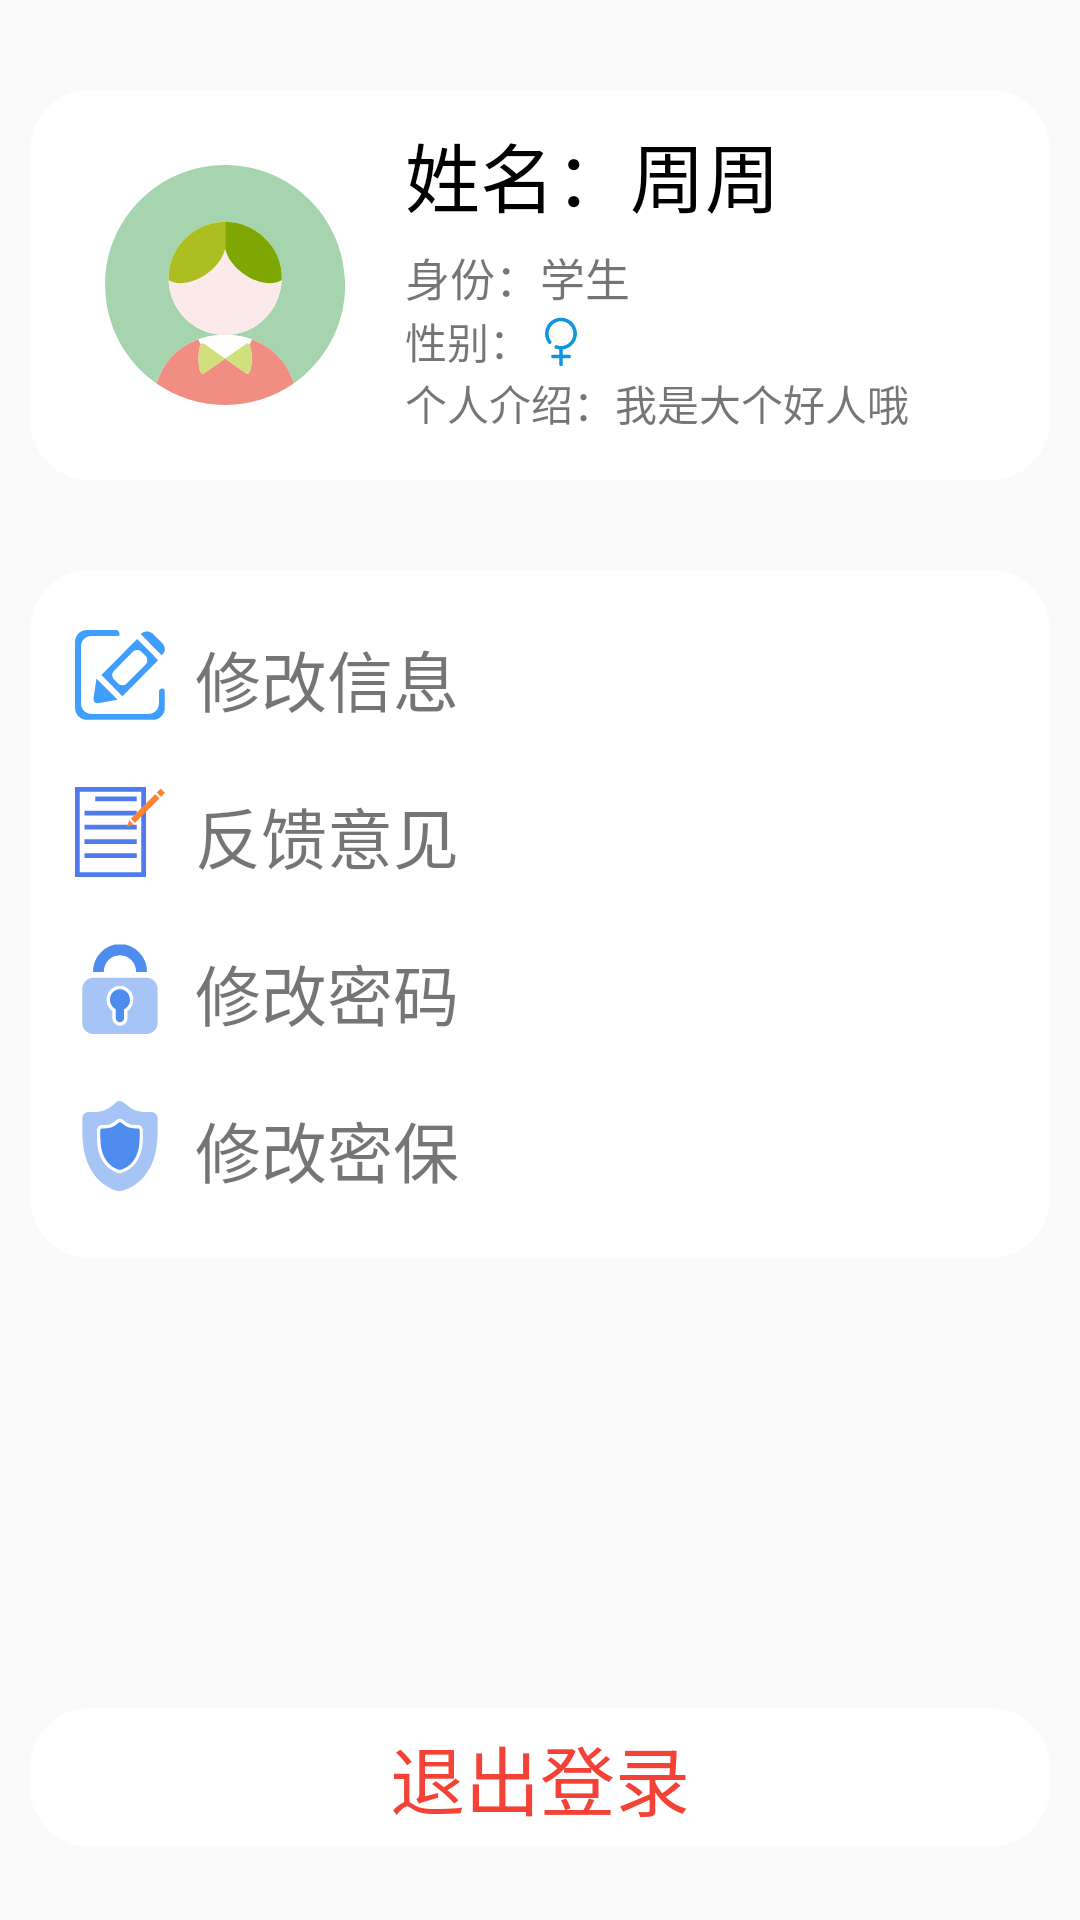

Icon click points for this 1080w x 1920h phone screenshot, format point (x, y):
mibao: point (120, 1146)
xiugai: point (120, 675), point (120, 832)
